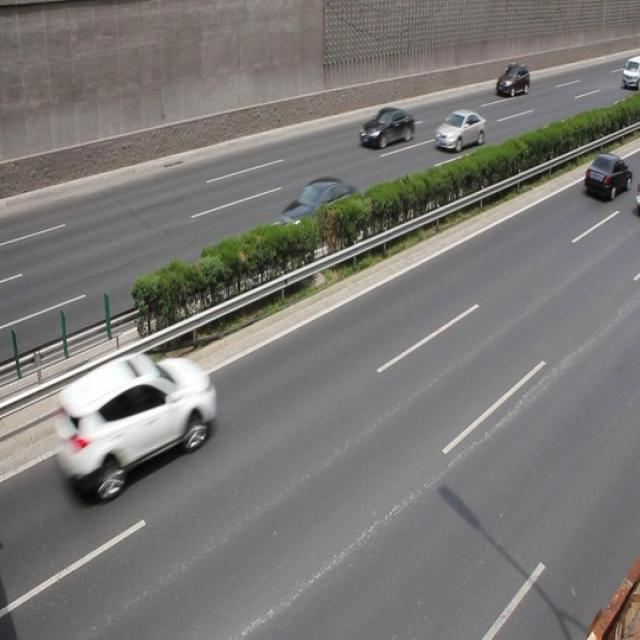car: (56, 351, 213, 499), (277, 175, 362, 250), (434, 107, 486, 155), (358, 105, 412, 150), (582, 151, 627, 199), (494, 62, 529, 99)
